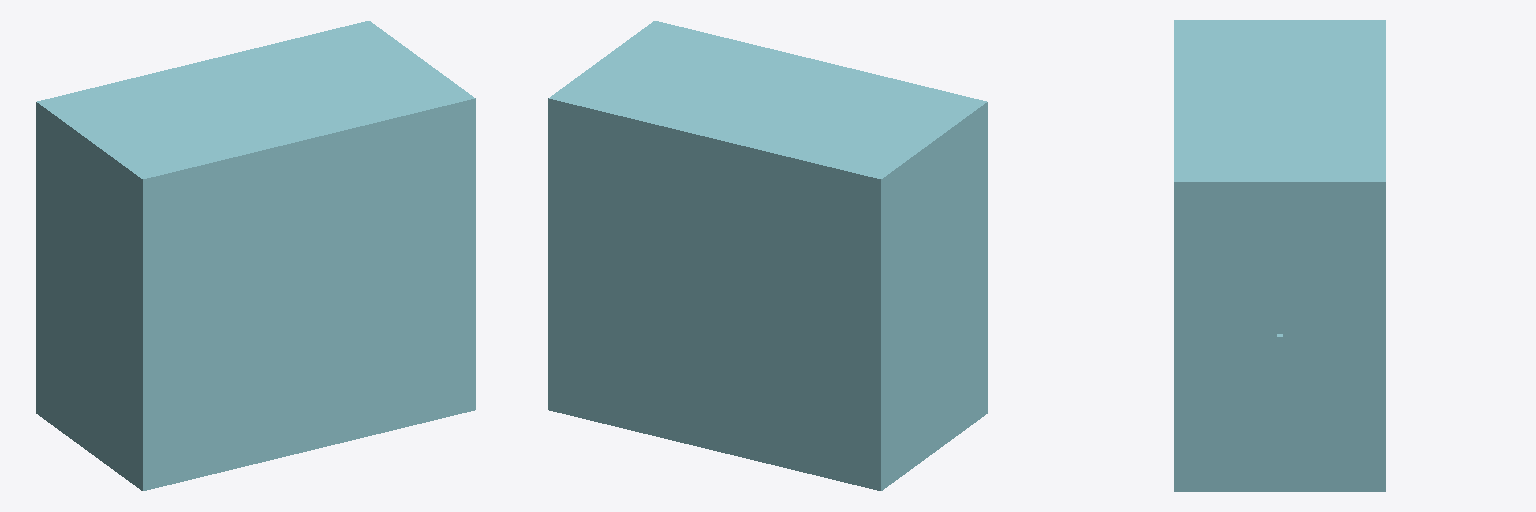
robot.urdf — cuboid_eraser_v7001:
<?xml version="1.0"?>
<robot name="cuboid_eraser_v7001">

  <link name="cuboid_eraser_v7001">
    <!-- Handle -->
    <visual>
      <origin xyz="0 0 0" rpy="0 0 0"/>
      <geometry>
        <box size="0.07236858313028906 0.040067777877669394 0.06478174406918484"/>
      </geometry>
      <material name="material">
        <color rgba="0.639 0.847 0.882 1.0"/>
      </material>
    </visual>
    <collision>
      <origin xyz="0 0 0" rpy="0 0 0"/>
      <geometry>
        <box size="0.07236858313028906 0.040067777877669394 0.06478174406918484"/>
      </geometry>
    </collision>

    <!-- Head -->
    <visual>
      <origin xyz="0.03668429156514453 0 0" rpy="0 0 0"/>
      <geometry>
        <box size="0.001 0.001 0.001"/>
      </geometry>
      <material name="material">
        <color rgba="0.639 0.847 0.882 1.0"/>
      </material>
    </visual>
    <collision>
      <origin xyz="0.03668429156514453 0 0" rpy="0 0 0"/>
      <geometry>
        <box size="0.001 0.001 0.001"/>
      </geometry>
    </collision>

    <inertial>
      <density value="400.0"/>
    </inertial>
  </link>

</robot>

--- Facts derived from the render (not from the file) ---
3 views of the same robot in one strip: view 1: azimuth 30°, elevation 25°; view 2: azimuth 150°, elevation 25°; view 3: azimuth 270°, elevation 25° (orthographic).
Robot: cuboid_eraser_v7001 — 1 links, 0 joints (none); root link cuboid_eraser_v7001; default pose: all joints at 0.
Links seen in each view (by area): view 1: cuboid_eraser_v7001; view 2: cuboid_eraser_v7001; view 3: cuboid_eraser_v7001.
Link boxes in pixels (x1=…): cuboid_eraser_v7001: x1=36, y1=21, x2=475, y2=490; cuboid_eraser_v7001: x1=548, y1=21, x2=987, y2=490; cuboid_eraser_v7001: x1=1174, y1=20, x2=1385, y2=491.
Bounding box of the posed robot: 0.0734 × 0.0401 × 0.0648 m (x, y, z).
Geometry: primitives only (box / cylinder / sphere), no mesh files.
